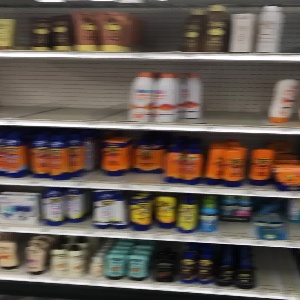void: (1, 61, 128, 126), (201, 62, 272, 124), (133, 4, 182, 56), (256, 249, 300, 299)
